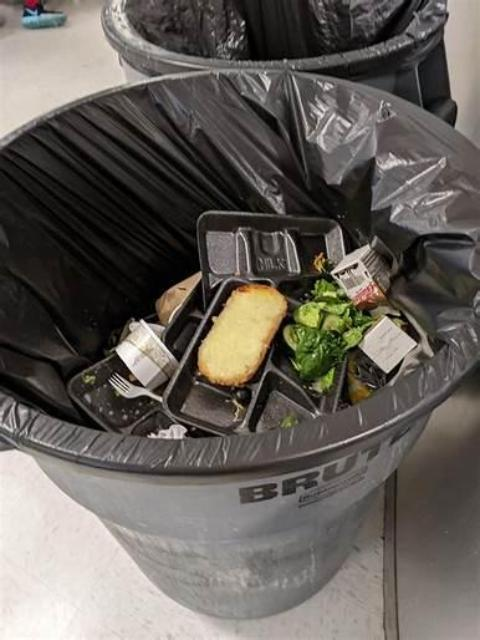Disposable: (164, 281, 354, 435), (197, 212, 345, 304), (68, 355, 186, 439), (163, 273, 204, 359)
Garbage: (0, 75, 480, 441)
Tetrapack: (331, 236, 395, 307)
